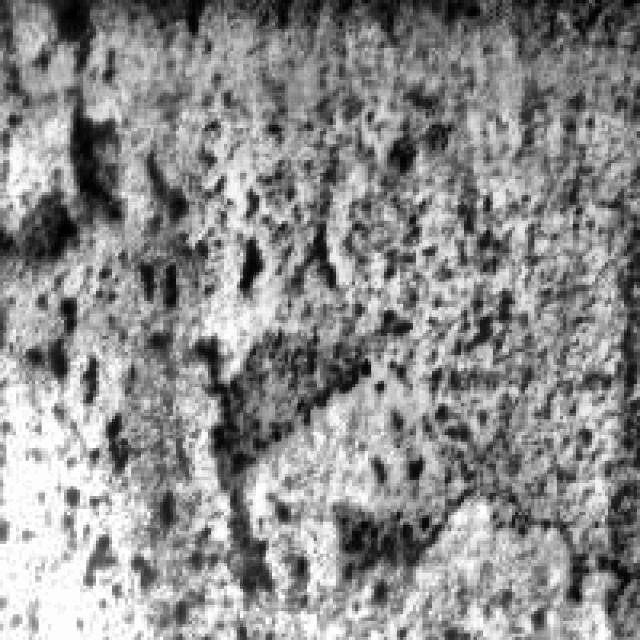Rolled_in_Scale: (124, 54, 630, 637), (3, 96, 269, 634)
